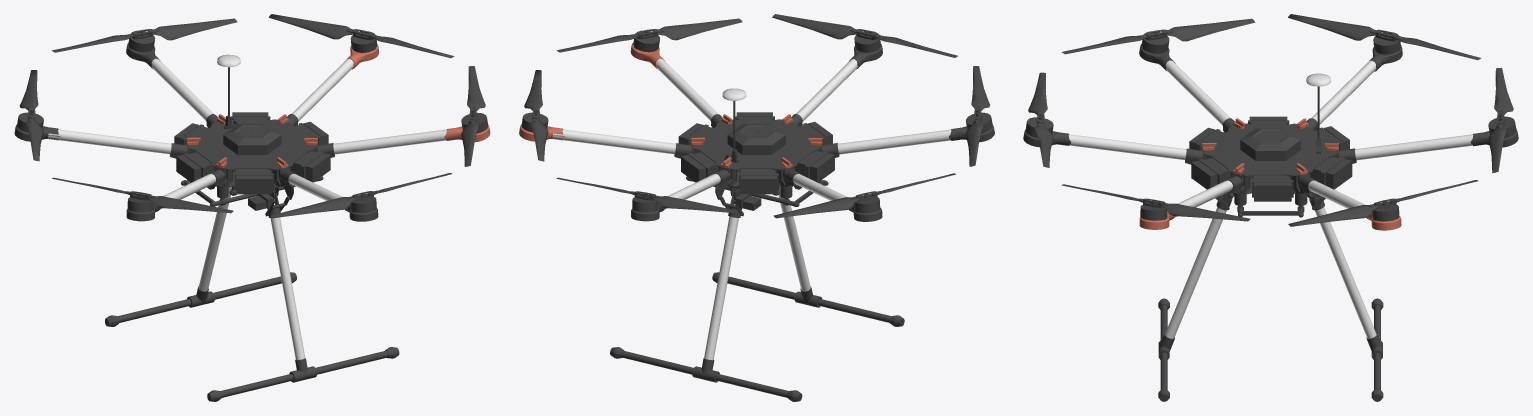
The model's file is Aircraft_M600.dae.
3 renders of one model, left to right at view 1: azimuth 30°, elevation 25°; view 2: azimuth 150°, elevation 25°; view 3: azimuth 270°, elevation 25°, orthographic. The views are drawn at different scales.
Visible parts, largest first — view 1: pCylinder20, pCylinder23, pCylinder4, pCylinder67, pCylinder2, pCylinder5, pCylinder48, pCylinder47, pCylinder63, pCylinder15_005, pCylinder75, pCylinder15 (+12 smaller); view 2: pCylinder20, pCylinder47, pCylinder23, pCylinder75, pCylinder71, pCylinder48, pCylinder5, pCylinder4, pCylinder2, pCylinder15_001, pCylinder79, pCylinder15_002 (+12 smaller); view 3: pCylinder20, pCylinder23, pCylinder4, pCylinder47, pCylinder63, pCylinder79, pCylinder71, pCylinder15_004, pCylinder15_003, pCylinder67, pCylinder16_005, polySurface362 (+13 smaller).
Boxes of the visible parts, <box> form: pCylinder20: <box>189,119,314,170</box>; pCylinder23: <box>223,124,281,154</box>; pCylinder4: <box>270,217,305,360</box>; pCylinder67: <box>47,129,171,154</box>; pCylinder2: <box>333,129,446,154</box>; pCylinder5: <box>220,351,388,397</box>; pCylinder48: <box>118,276,281,322</box>; pCylinder47: <box>198,187,231,291</box>; pCylinder63: <box>151,58,213,120</box>; pCylinder15_005: <box>268,14,358,39</box>; pCylinder75: <box>291,59,353,121</box>; pCylinder15: <box>147,18,237,40</box>; pCylinder20: <box>694,119,820,170</box>; pCylinder47: <box>704,216,738,360</box>; pCylinder23: <box>727,124,785,154</box>; pCylinder75: <box>552,129,676,154</box>; pCylinder71: <box>837,129,951,154</box>; pCylinder48: <box>621,351,788,397</box>; pCylinder5: <box>727,276,891,322</box>; pCylinder4: <box>778,187,810,291</box>; pCylinder2: <box>656,58,718,120</box>; pCylinder15_001: <box>772,14,862,39</box>; pCylinder79: <box>796,59,857,121</box>; pCylinder15_002: <box>652,18,742,40</box>; pCylinder20: <box>1205,123,1336,176</box>; pCylinder23: <box>1240,128,1300,160</box>; pCylinder4: <box>1165,207,1226,338</box>; pCylinder47: <box>1314,207,1376,338</box>; pCylinder63: <box>1355,134,1473,160</box>; pCylinder79: <box>1068,134,1186,159</box>; pCylinder71: <box>1166,60,1230,125</box>; pCylinder15_004: <box>1288,14,1381,40</box>; pCylinder15_003: <box>1161,18,1255,41</box>; pCylinder67: <box>1311,60,1376,124</box>; pCylinder16_005: <box>1288,204,1380,226</box>; polySurface362: <box>1254,182,1291,201</box>.
Bounding box in the file's own units: 1.25 × 1.22 × 0.7573.
